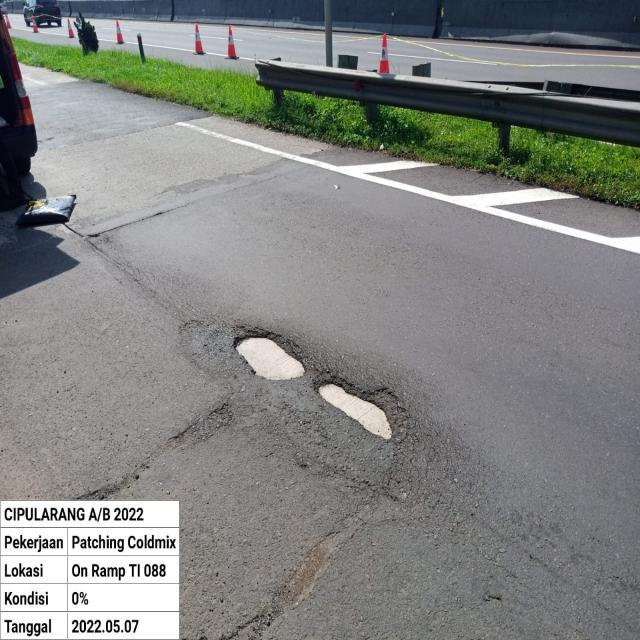Buraco: (310, 367, 412, 447), (230, 324, 312, 384)
